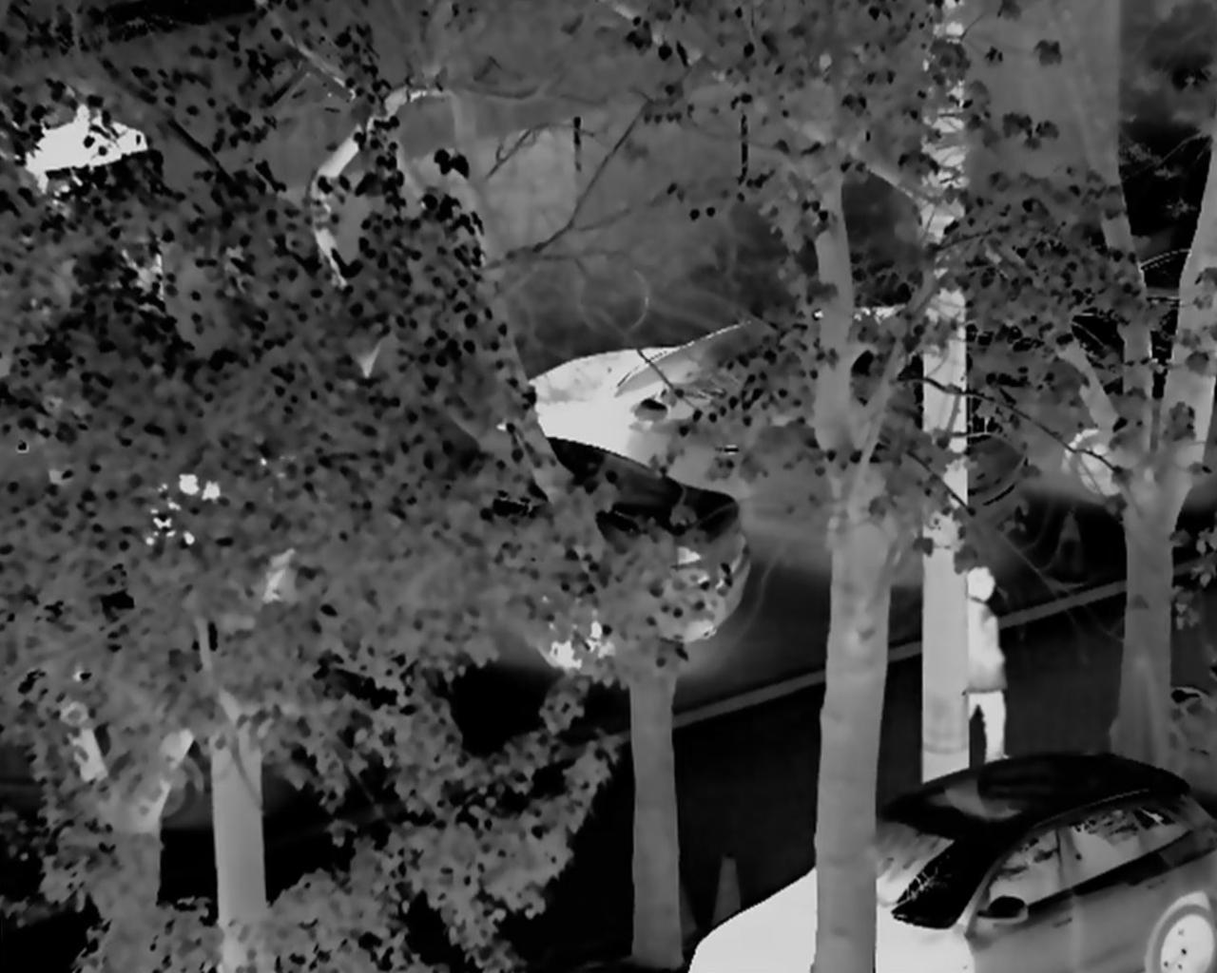person: (952, 569, 1013, 773)
